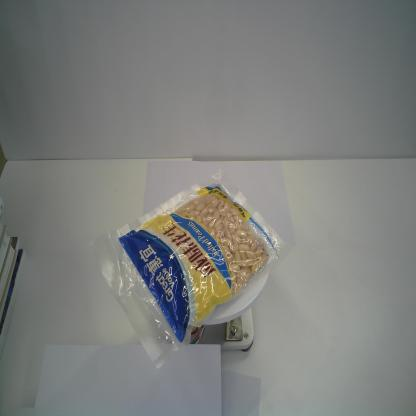Dried Fruit: (89, 167, 286, 367)
